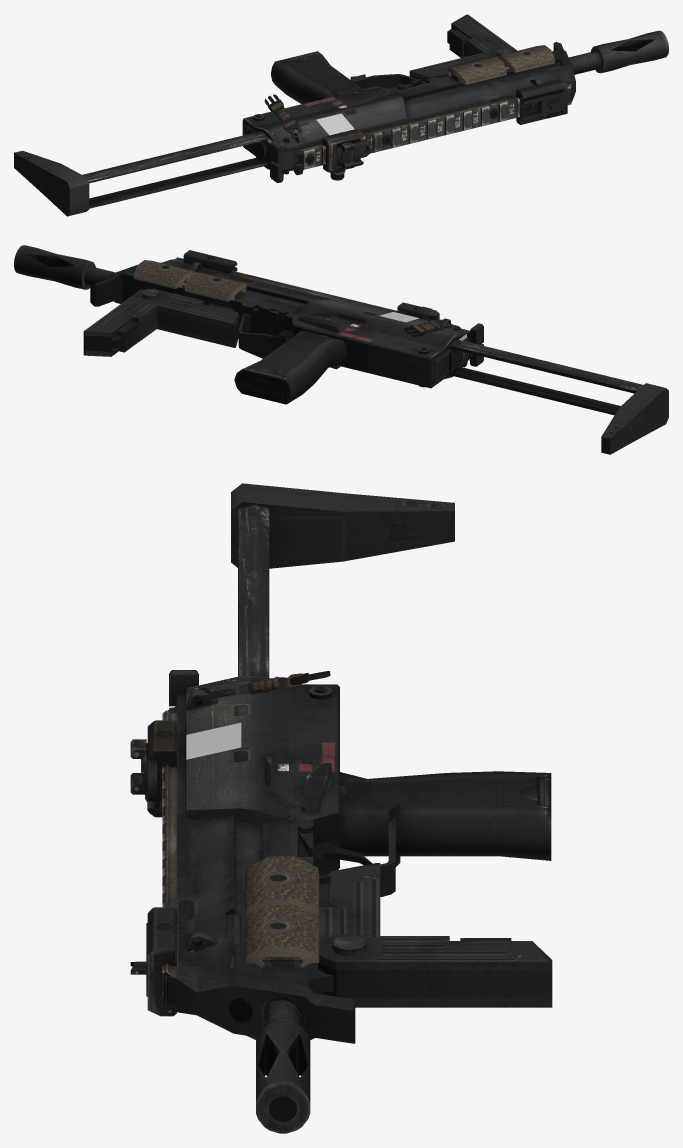
Rendered from t6_wpn_smg_mp7_view_LOD0.obj.
3 views of the same model, one above another, from view 1: azimuth 30°, elevation 25°; view 2: azimuth 150°, elevation 25°; view 3: azimuth 270°, elevation 25° (orthographic). The views are drawn at different scales.
Parts seen in each view (by area): view 1: mtl_t6_wpn_smg_mp7_camo3, mtl_t6_wpn_smg_mp7_camo1, mtl_t6_wpn_smg_mp7_camo2, mtl_t6_wpn_smg_mp7_camo4, mtl_player_icon; view 2: mtl_t6_wpn_smg_mp7_camo2, mtl_t6_wpn_smg_mp7_camo3, mtl_t6_wpn_smg_mp7_camo1, mtl_t6_wpn_smg_mp7_camo4; view 3: mtl_t6_wpn_smg_mp7_camo2, mtl_t6_wpn_smg_mp7_camo3, mtl_t6_wpn_smg_mp7_camo1, mtl_t6_wpn_smg_mp7_camo4, mtl_player_icon.
Boxes of the visible parts, x1,y1,x2,y2 form: mtl_t6_wpn_smg_mp7_camo3: (14, 30, 668, 216); mtl_t6_wpn_smg_mp7_camo1: (82, 23, 604, 208); mtl_t6_wpn_smg_mp7_camo2: (14, 42, 575, 216); mtl_t6_wpn_smg_mp7_camo4: (270, 14, 570, 182); mtl_player_icon: (316, 113, 354, 135); mtl_t6_wpn_smg_mp7_camo2: (90, 259, 668, 454); mtl_t6_wpn_smg_mp7_camo3: (14, 245, 665, 454); mtl_t6_wpn_smg_mp7_camo1: (82, 250, 643, 415); mtl_t6_wpn_smg_mp7_camo4: (84, 250, 483, 369); mtl_t6_wpn_smg_mp7_camo2: (130, 502, 551, 1043); mtl_t6_wpn_smg_mp7_camo3: (147, 483, 551, 1103); mtl_t6_wpn_smg_mp7_camo1: (130, 505, 552, 1133); mtl_t6_wpn_smg_mp7_camo4: (147, 670, 552, 972); mtl_player_icon: (186, 722, 241, 759).
Size of the model in its own units: 69.64 by 6.46 by 21.02.
